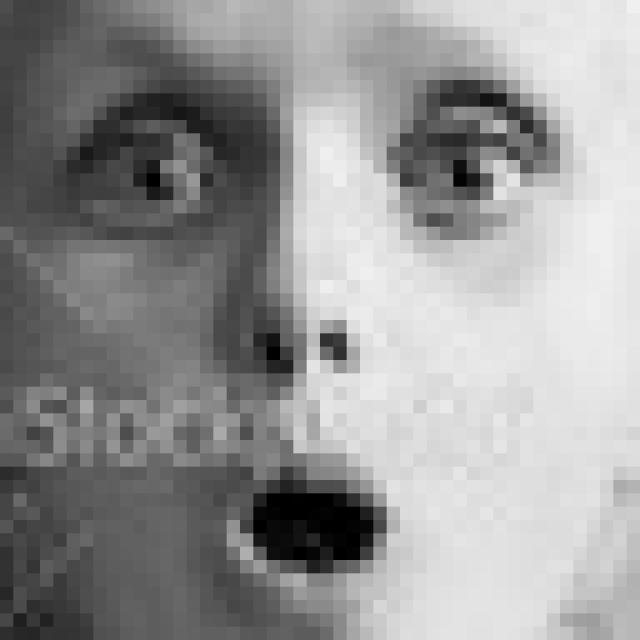surprise: (42, 66, 568, 640)
